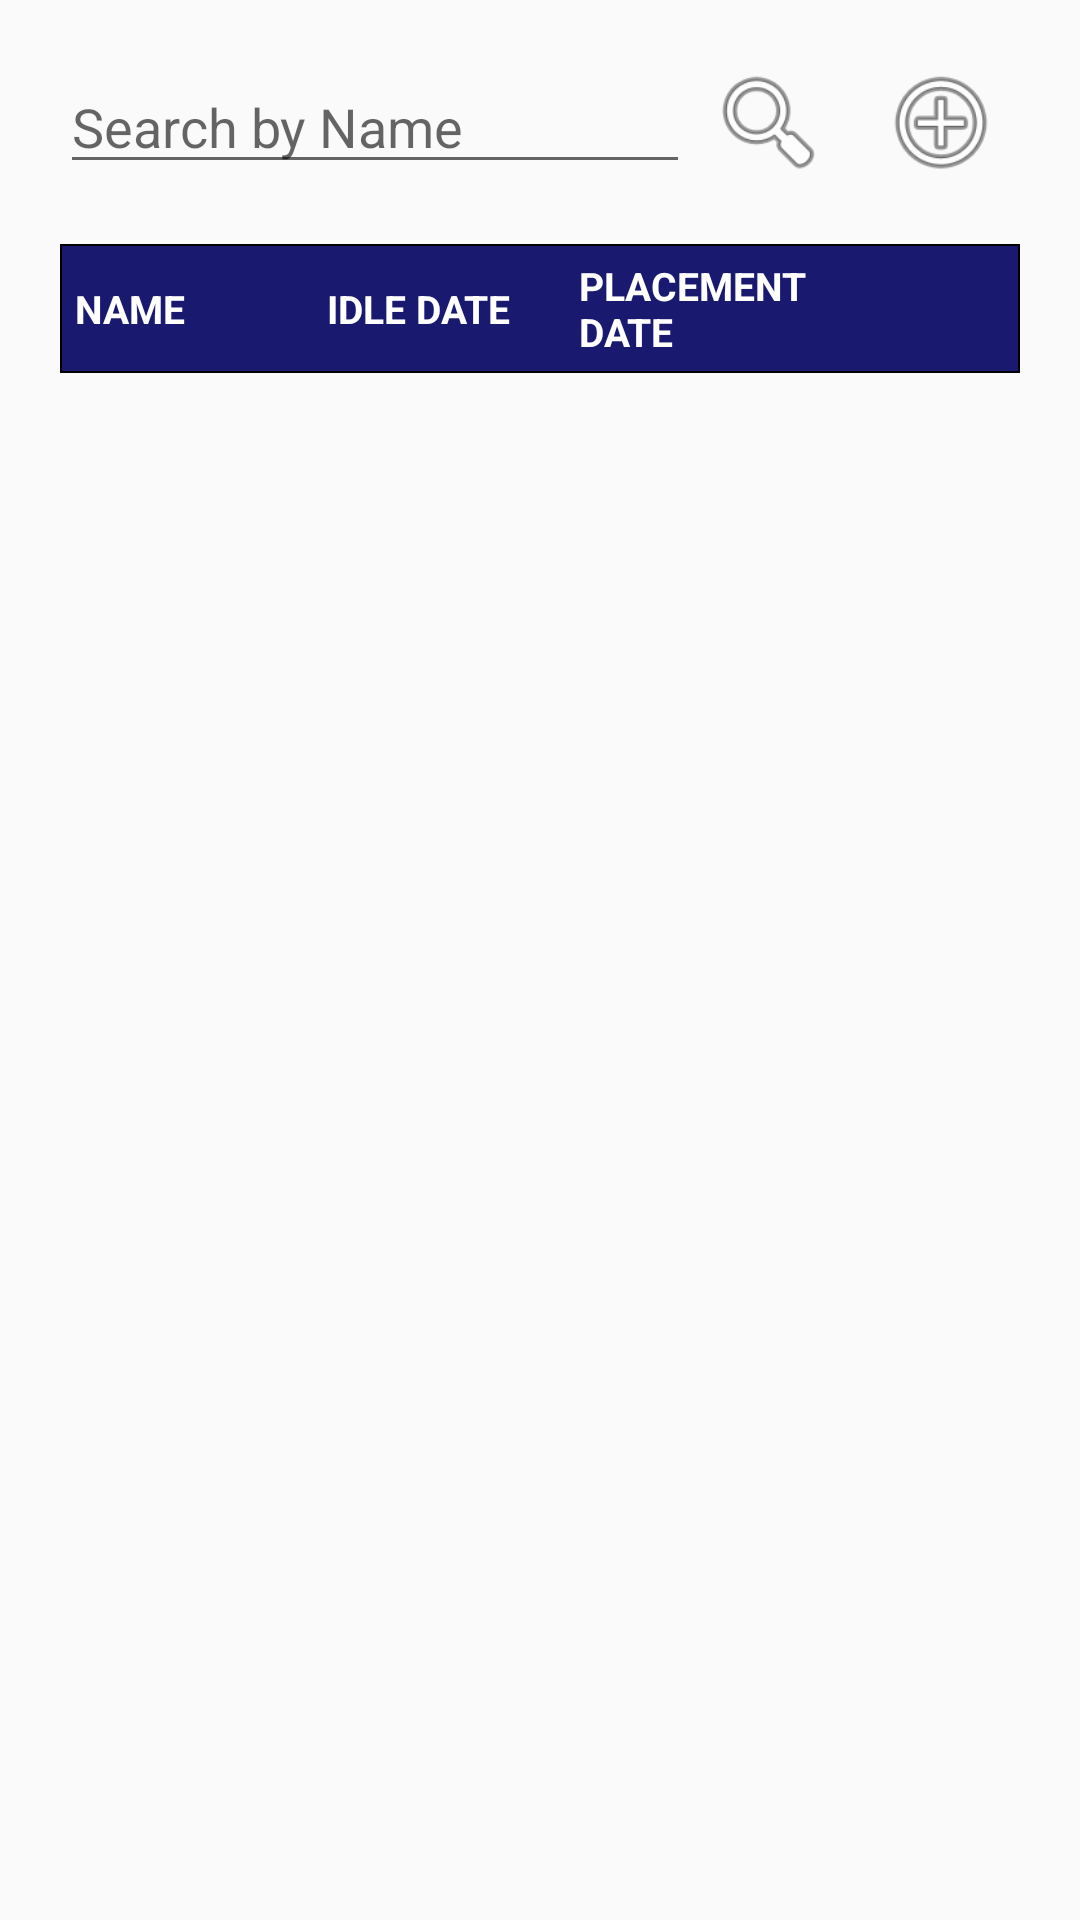

Point at icon controls on the screen. Image size 1080px×1920px, points as point (x, y).
add: point (941, 123)
